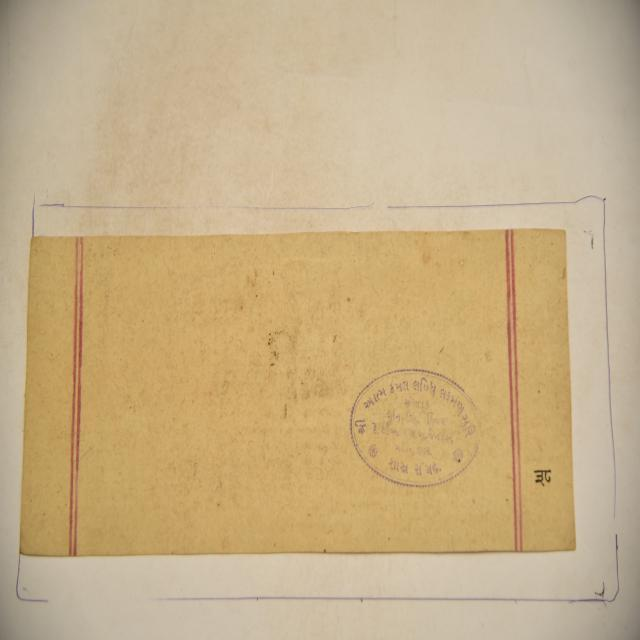text_paragraph: (16, 223, 578, 557)
